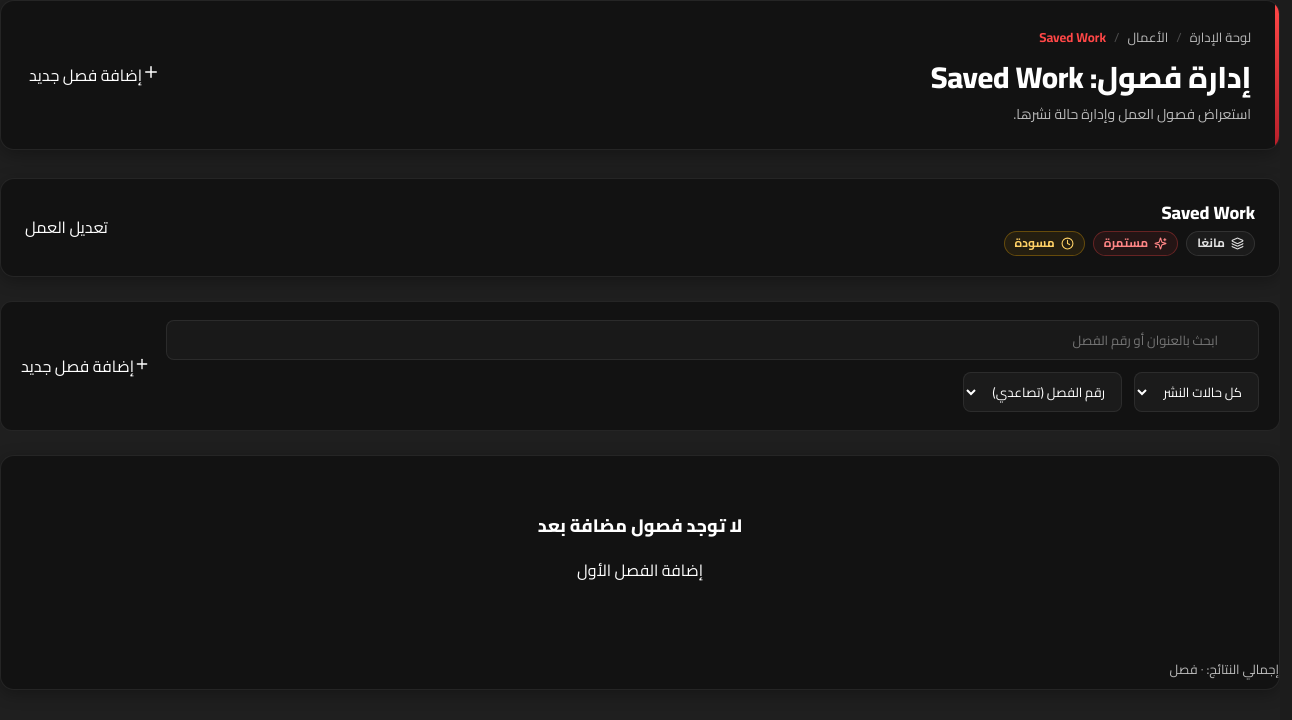
Test: persisted Chapter list › distinguishes an empty Work from no filter matches
Expected: the heading "لا توجد فصول مضافة بعد" is shown, [538,512,742,539]
Type "absent" into the search field named "البحث عن فصل" at x=712, y=340, box [166,320,1259,360]
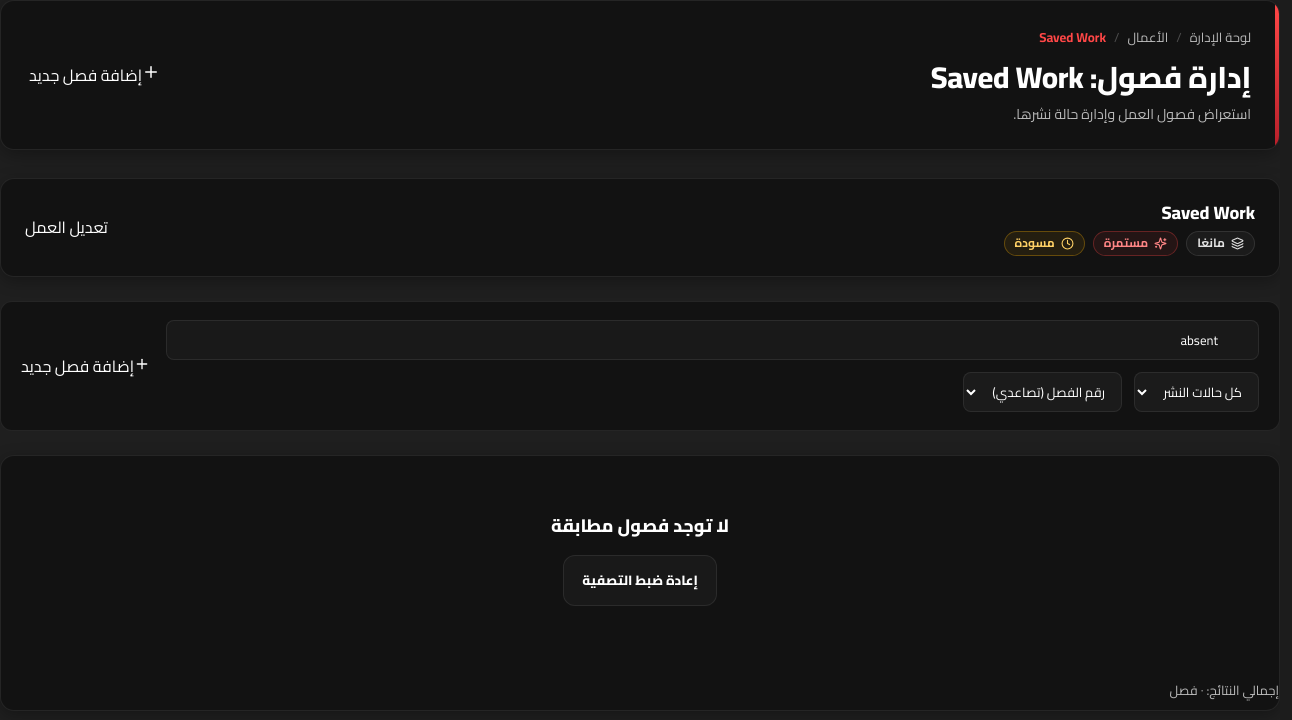
Expected: the heading "لا توجد فصول مطابقة" is shown, [551,512,729,539]
